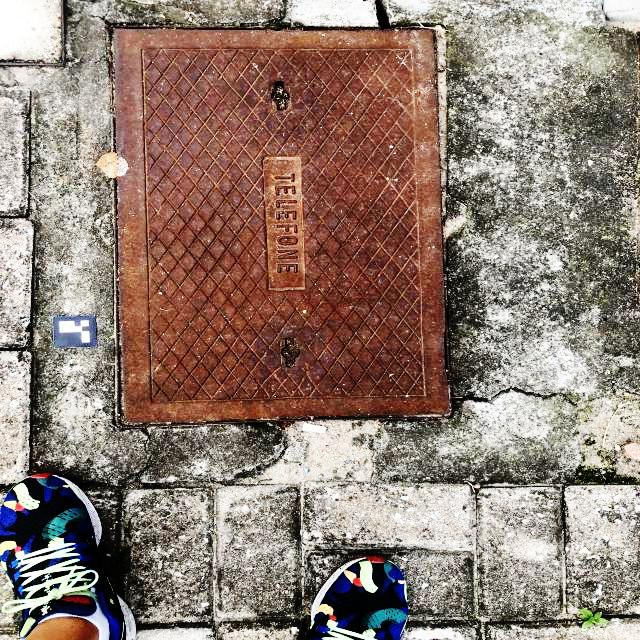Corrosion: (109, 26, 453, 429), (0, 0, 66, 67)
